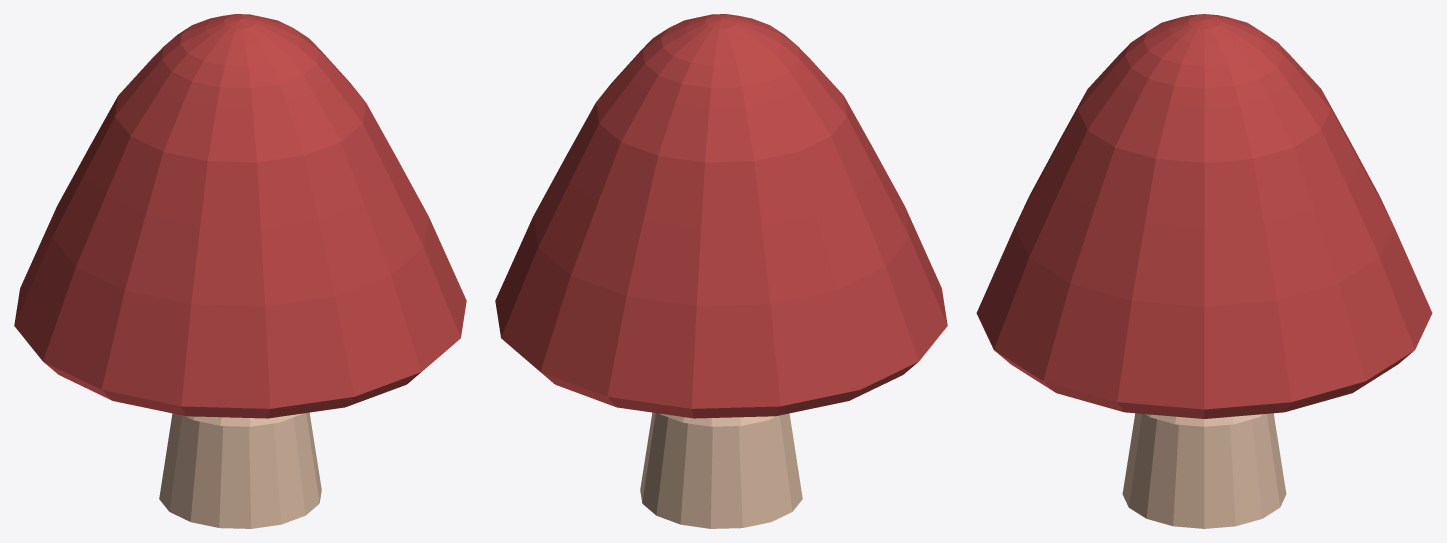
Rendered from champignon_Marais.fbx.
3 views of the same model, side by side, from view 1: azimuth 30°, elevation 25°; view 2: azimuth 150°, elevation 25°; view 3: azimuth 270°, elevation 25° (orthographic).
Visible parts, largest first — view 1: Cylinder; view 2: Cylinder; view 3: Cylinder.
Boxes of the visible parts, <box> form: Cylinder: <box>14,14,466,528</box>; Cylinder: <box>495,14,947,528</box>; Cylinder: <box>976,14,1432,528</box>.
Bounding box in the file's own units: 180 × 207 × 180.
